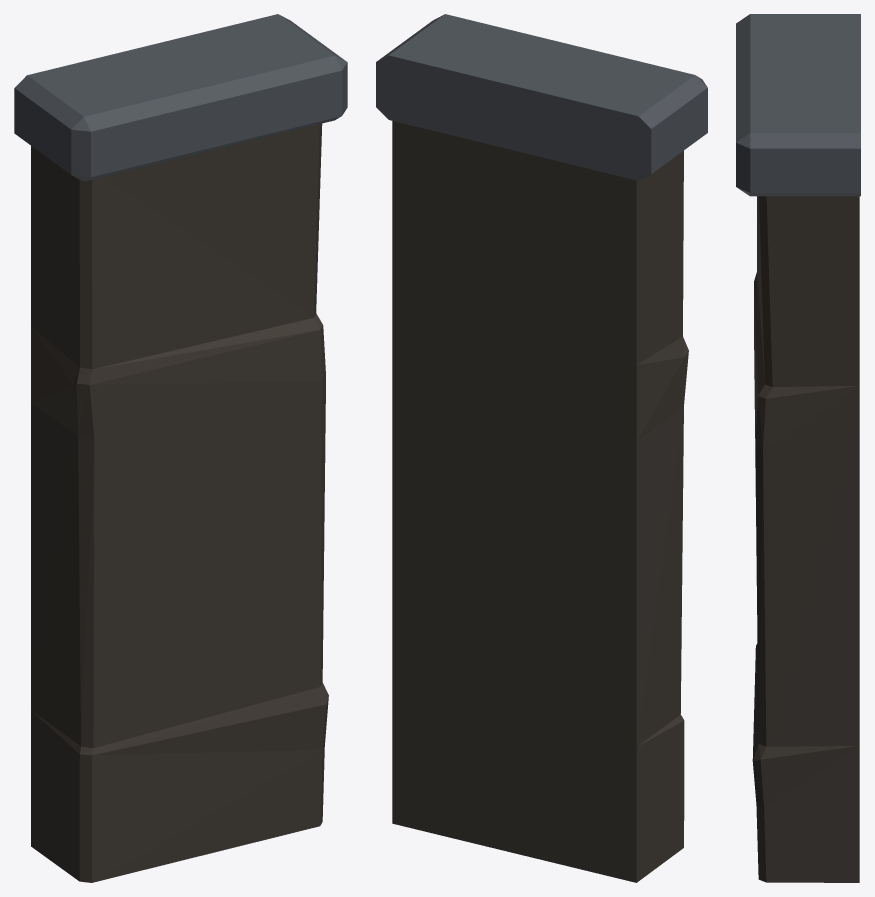
Rendered from MCastle_MasonrySupports_FlatPillar_01.FBX.
3 renders of one model, left to right at view 1: azimuth 30°, elevation 25°; view 2: azimuth 150°, elevation 25°; view 3: azimuth 270°, elevation 25°, orthographic. The views are drawn at different scales.
Parts seen in each view (by area): view 1: MCastle_MasonrySupports_FlatPillar_01_LOD0; view 2: MCastle_MasonrySupports_FlatPillar_01_LOD0; view 3: MCastle_MasonrySupports_FlatPillar_01_LOD0.
Boxes of the visible parts, x1=… form: MCastle_MasonrySupports_FlatPillar_01_LOD0: x1=14, y1=14, x2=347, y2=882; MCastle_MasonrySupports_FlatPillar_01_LOD0: x1=376, y1=14, x2=707, y2=882; MCastle_MasonrySupports_FlatPillar_01_LOD0: x1=736, y1=14, x2=860, y2=882.
Size of what is drawn, in the model's own units: 1.69 by 4.52 by 0.6794.
